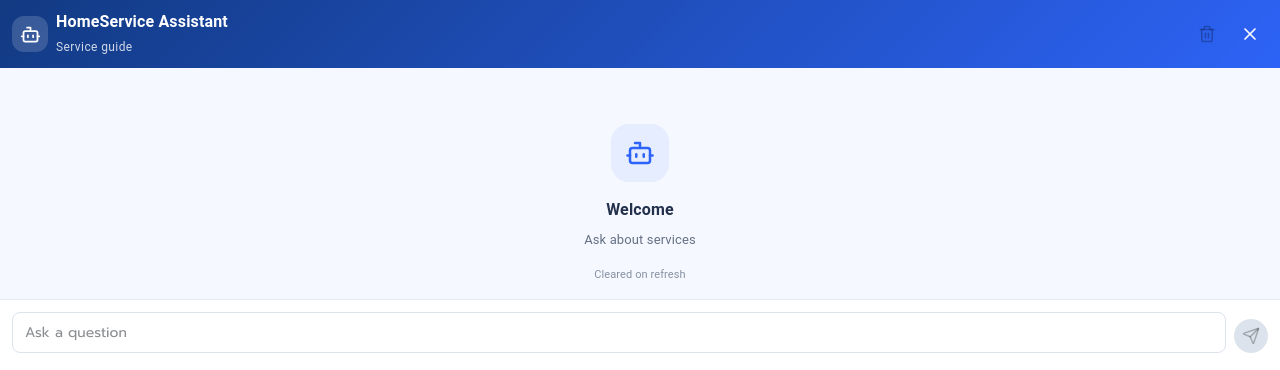
Scenario: ChatbotPanel › prevents empty sends and renders a successful guest exchange
Check: the button named "Send" is disabled, box [1234,319,1268,353]
Type "How much is air-con cleaning?" into the text box named "AI message".
click(619, 333); type("How much is air-con cleaning?")  # box [12,312,1226,353]
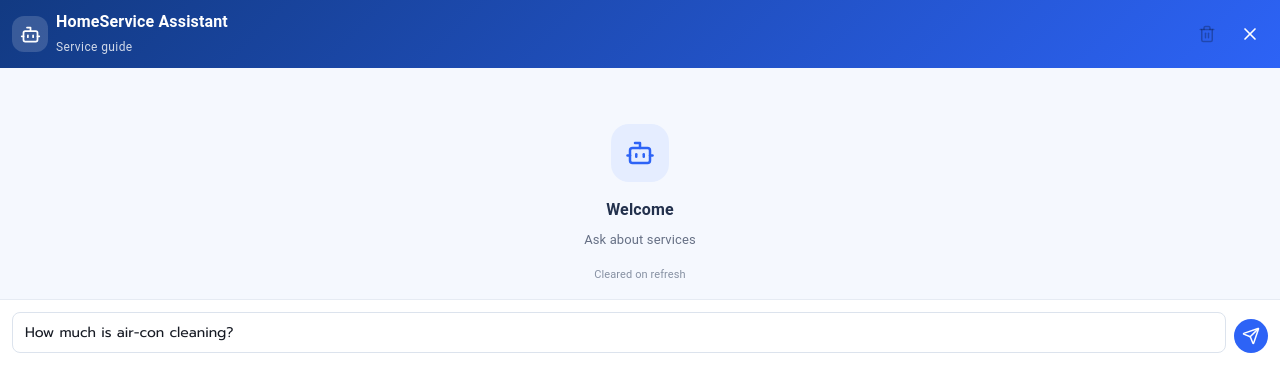
Click the button named "Send".
click(1251, 336)  # box [1234,319,1268,353]
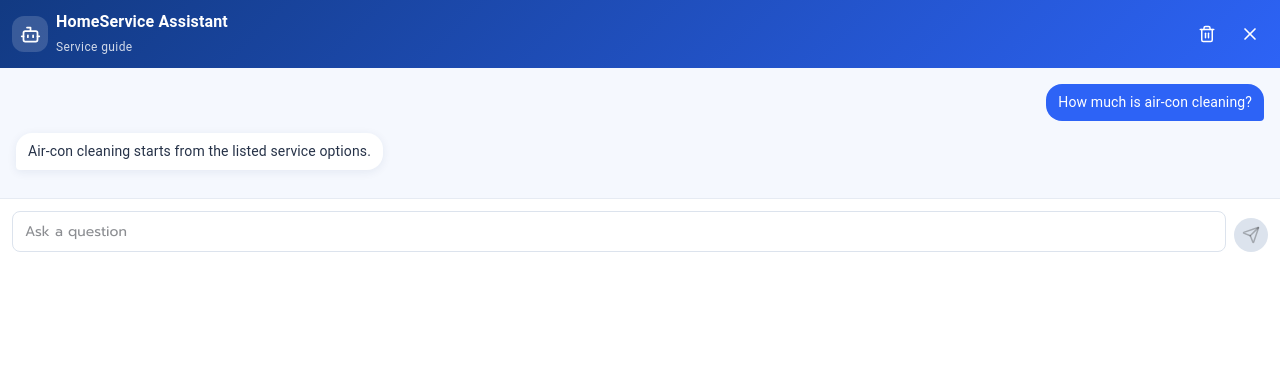
Check: the text "How much is air-con cleaning?" is shown, box [1058,92,1252,113]
Check: the text "Air-con cleaning starts from the listed service options." is shown, box [28,141,371,162]
